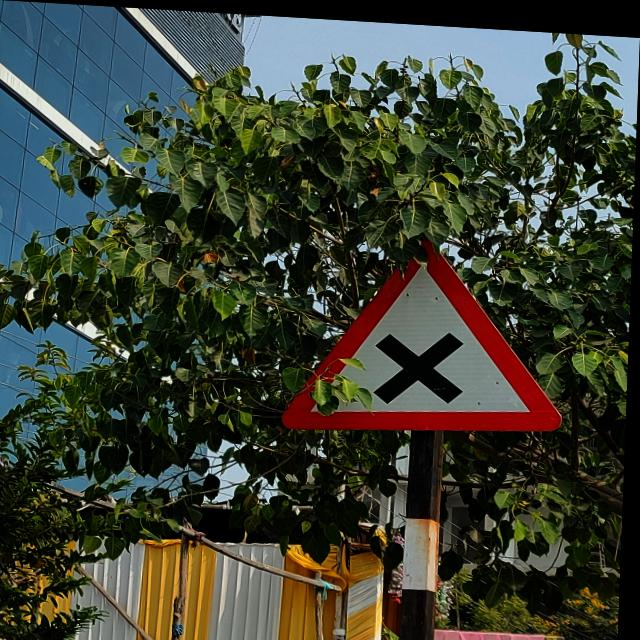CROSS_ROAD: (282, 226, 570, 432)
